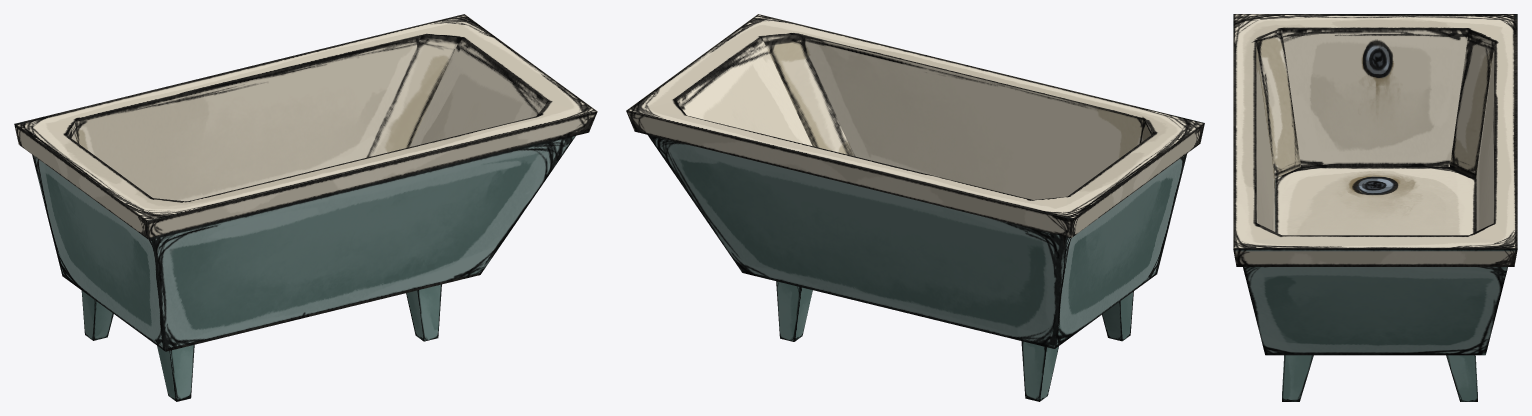
File: bath.fbx
3 views of the same model, side by side, from view 1: azimuth 30°, elevation 25°; view 2: azimuth 150°, elevation 25°; view 3: azimuth 270°, elevation 25° (orthographic). The views are drawn at different scales.
Parts seen in each view (by area): view 1: bath.001, bath; view 2: bath.001, bath; view 3: bath.001, bath.
Part boxes in pixels (x1=…): bath.001: x1=14, y1=14, x2=597, y2=351; bath: x1=81, y1=284, x2=441, y2=401; bath.001: x1=626, y1=14, x2=1204, y2=348; bath: x1=776, y1=281, x2=1133, y2=401; bath.001: x1=1233, y1=14, x2=1517, y2=355; bath: x1=1282, y1=355, x2=1477, y2=401.
Size of the model in its own units: 2.27 by 1.01 by 1.16.
Materials: 2 (2 with a texture image).
